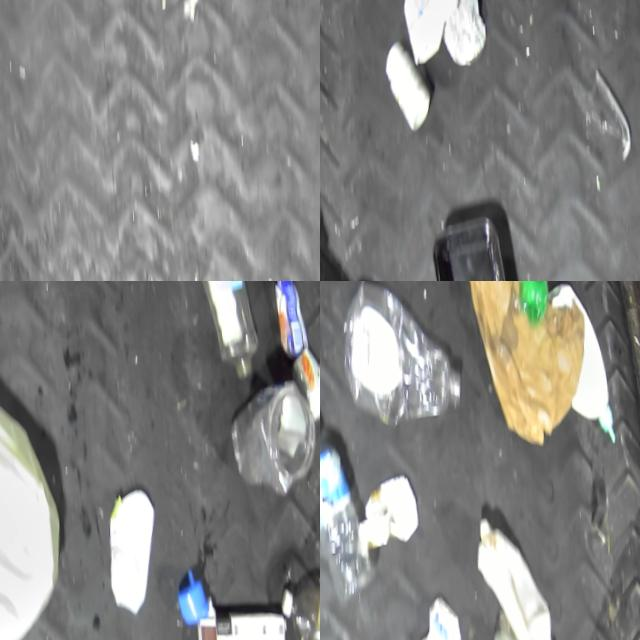can: (488, 598, 539, 640)
milk_jug: (0, 383, 65, 640), (471, 504, 557, 640)
plastic_bottle: (337, 281, 461, 424), (320, 403, 375, 602)
